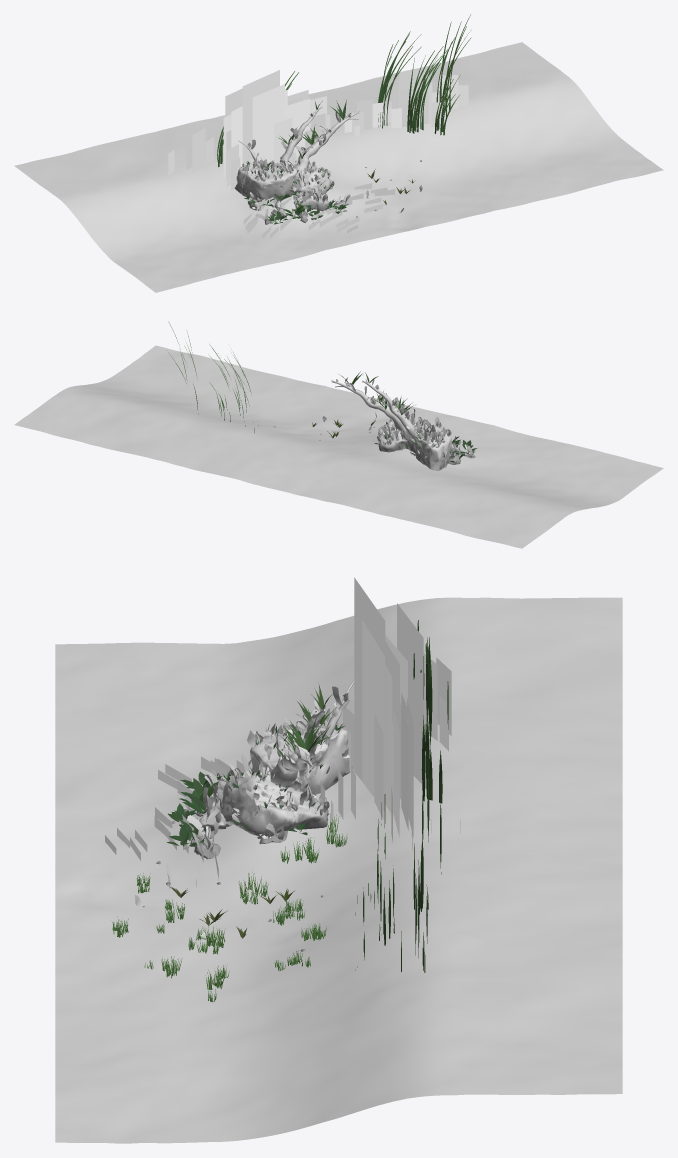
The model's file is environment.glb.
3 renders of one model, top to bottom at view 1: azimuth 30°, elevation 25°; view 2: azimuth 150°, elevation 25°; view 3: azimuth 270°, elevation 25°, orthographic. The views are drawn at different scales.
Parts seen in each view (by area): view 1: slice-b-substrate, slice-b-cards, slice-b-plants, slice-b-rocks, slice-b-moss, slice-b-wood; view 2: slice-b-substrate, slice-b-moss, slice-b-rocks, slice-b-plants, slice-b-wood; view 3: slice-b-substrate, slice-b-cards, slice-b-plants, slice-b-rocks, slice-b-moss, slice-b-wood.
Boxes of the visible parts, <box> form: slice-b-substrate: <box>14,42,663,292</box>; slice-b-cards: <box>168,70,468,238</box>; slice-b-plants: <box>217,14,471,224</box>; slice-b-rocks: <box>234,160,421,224</box>; slice-b-moss: <box>241,110,422,220</box>; slice-b-wood: <box>238,105,359,207</box>; slice-b-substrate: <box>14,345,663,548</box>; slice-b-moss: <box>322,377,472,467</box>; slice-b-rocks: <box>273,420,475,470</box>; slice-b-plants: <box>168,321,476,462</box>; slice-b-wood: <box>331,379,431,453</box>; slice-b-substrate: <box>55,597,622,1143</box>; slice-b-cards: <box>105,577,460,888</box>; slice-b-plants: <box>112,620,448,1002</box>; slice-b-rocks: <box>142,728,353,951</box>; slice-b-moss: <box>135,686,349,938</box>; slice-b-wood: <box>270,680,354,791</box>.
Bounding box in the file's own units: 18 × 4.02 × 8.7.
